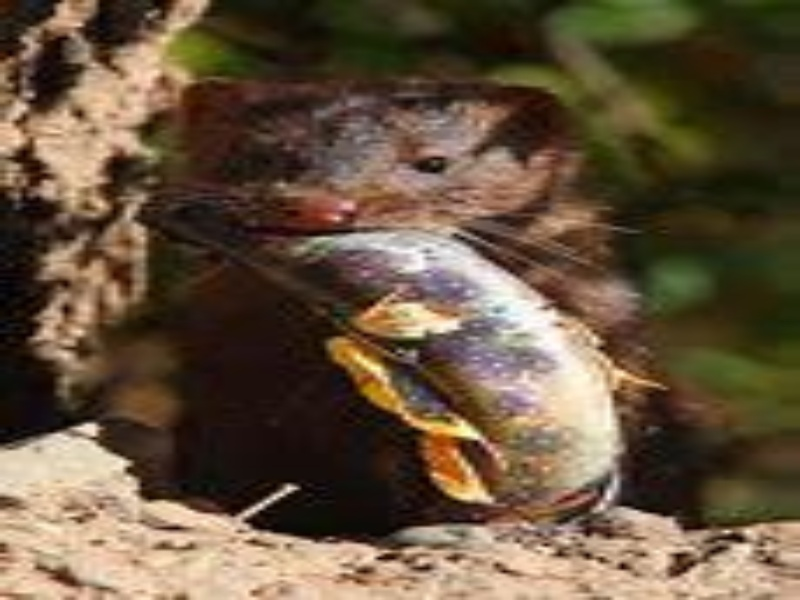minkish: (161, 73, 706, 544)
